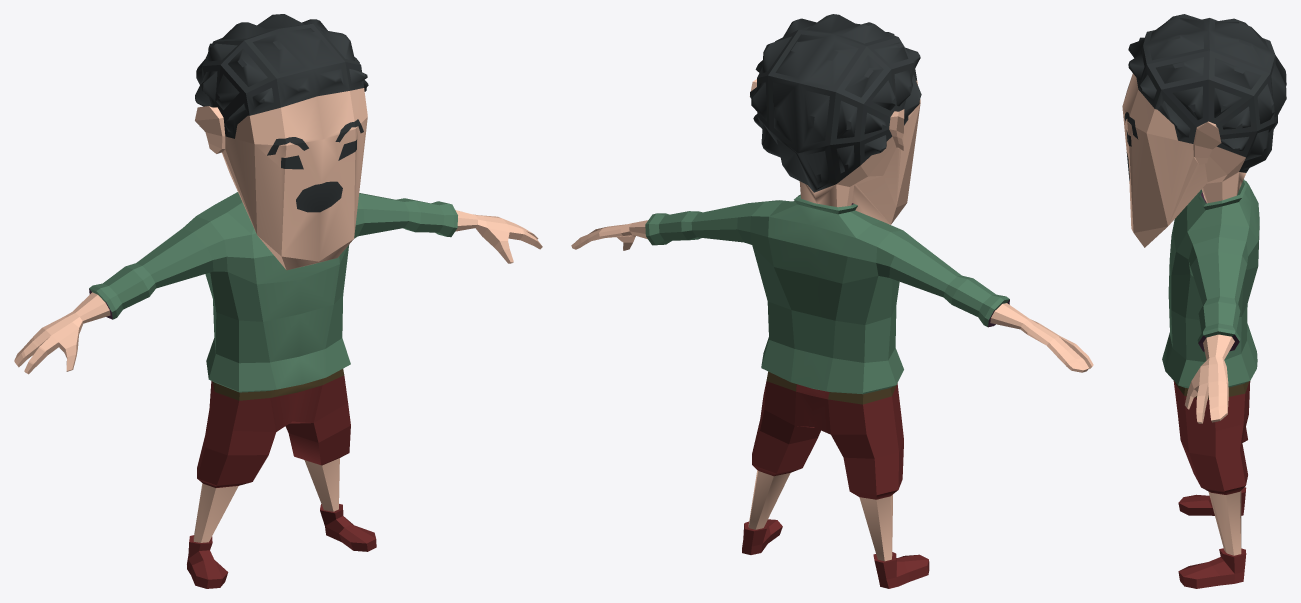
The model's file is gariban_karakter.fbx.
The picture shows the model from 3 angles, left to right: view 1: azimuth 30°, elevation 25°; view 2: azimuth 150°, elevation 25°; view 3: azimuth 270°, elevation 25°; orthographic projection. The views are drawn at different scales.
Visible parts, largest first — view 1: caracter2.001; view 2: caracter2.001; view 3: caracter2.001.
Boxes of the visible parts, x1,y1,x2,y2 form: caracter2.001: (14,14,542,588); caracter2.001: (571,14,1093,588); caracter2.001: (1122,14,1286,588).
Size of the model in its own units: 125 by 122 by 35.06.
1 material, 1 textured.
